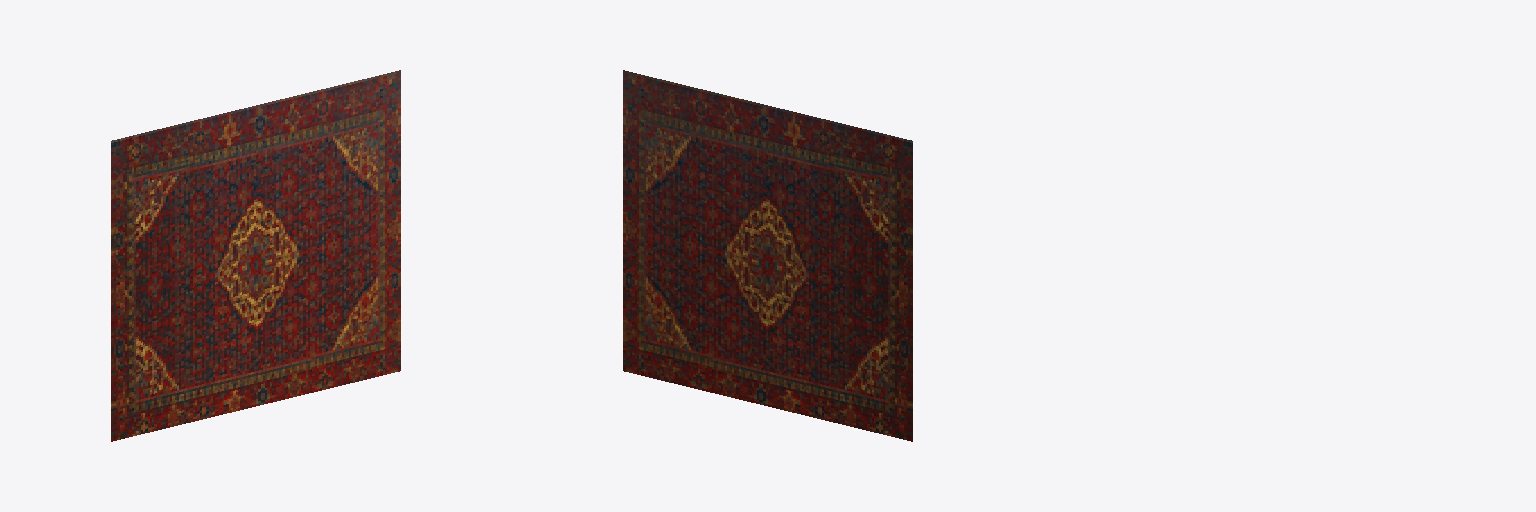
3 views of the same model, side by side, from view 1: azimuth 30°, elevation 25°; view 2: azimuth 150°, elevation 25°; view 3: azimuth 270°, elevation 25° (orthographic).
Bounding box in the file's own units: 6.05 × 6.02 × 0.
1 materials, 1 textured.